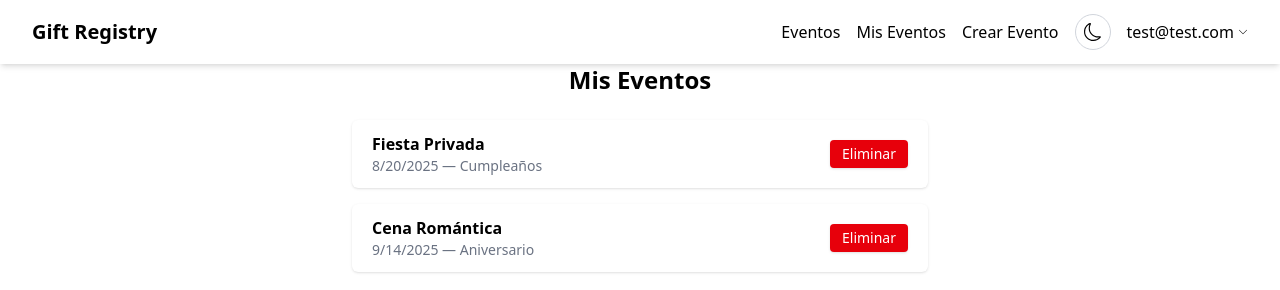
Test: Mis Eventos › Elimina un evento correctamente
The image size is (1280, 290).
Click the button "Eliminar" in the row of "Fiesta Privada" at (869, 154), box [830, 140, 908, 168]
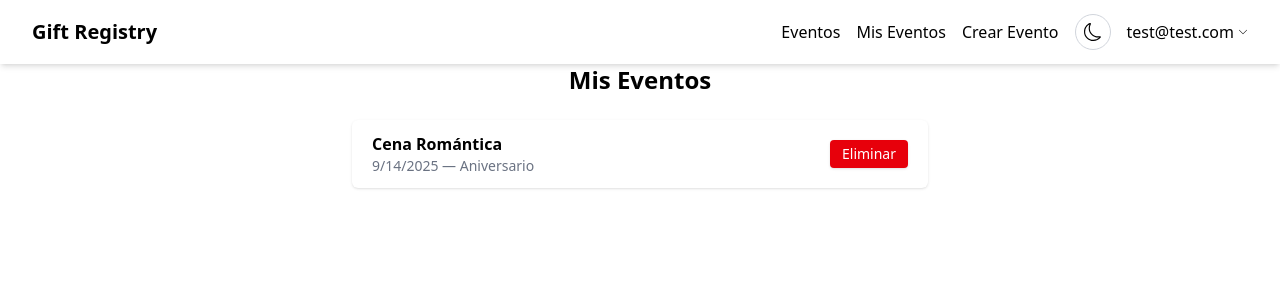
expect the text "Cena Romántica" is shown: met, box [372, 133, 502, 155]
expect the text "Fiesta Privada" is gone: met
